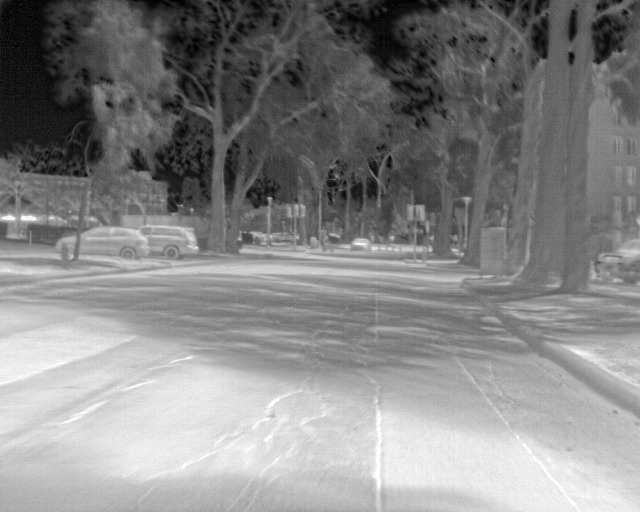vehicle: (57, 226, 149, 259), (150, 225, 200, 262), (351, 238, 372, 251)
